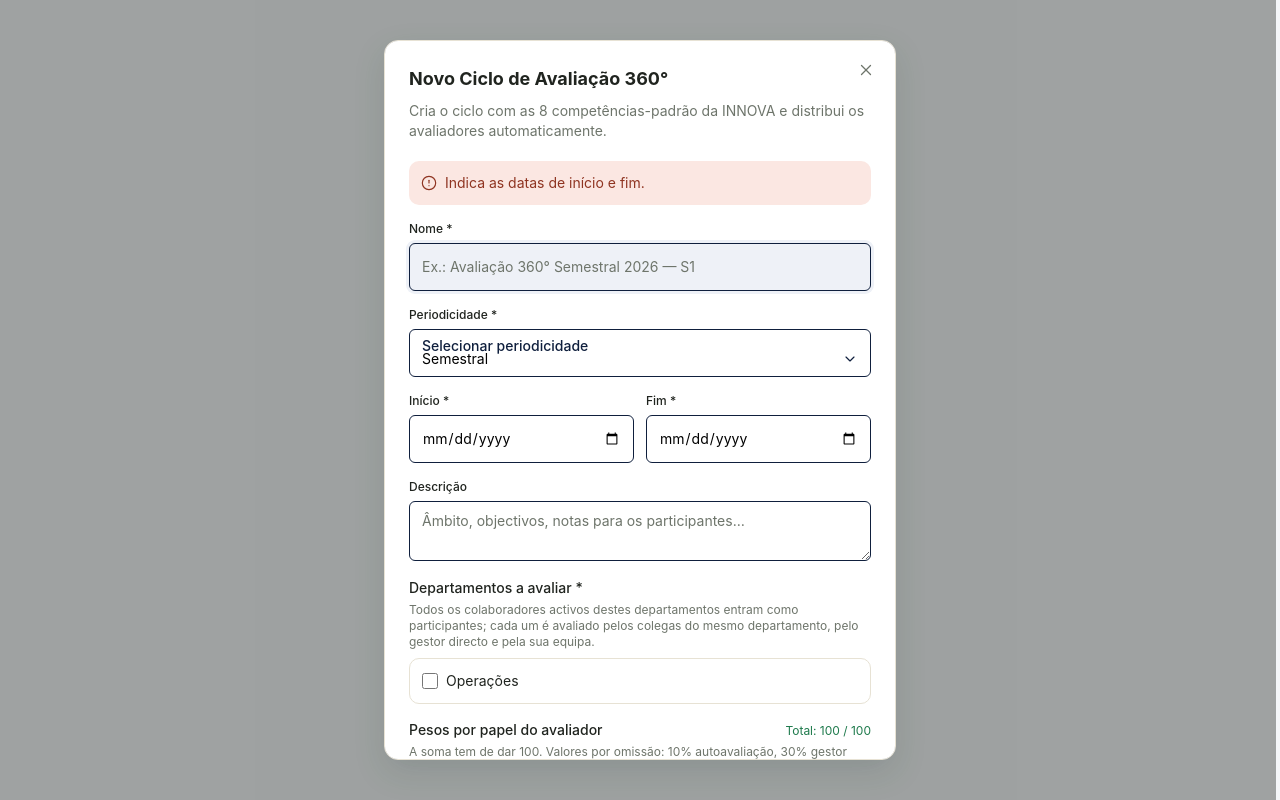
Test case: CreateCycleModal (evaluation360) › não submete quando os pesos não somam 100
Type "Ciclo 2026 S1" into the field labelled "Nome *" at (640, 267), box [409,243,871,291]
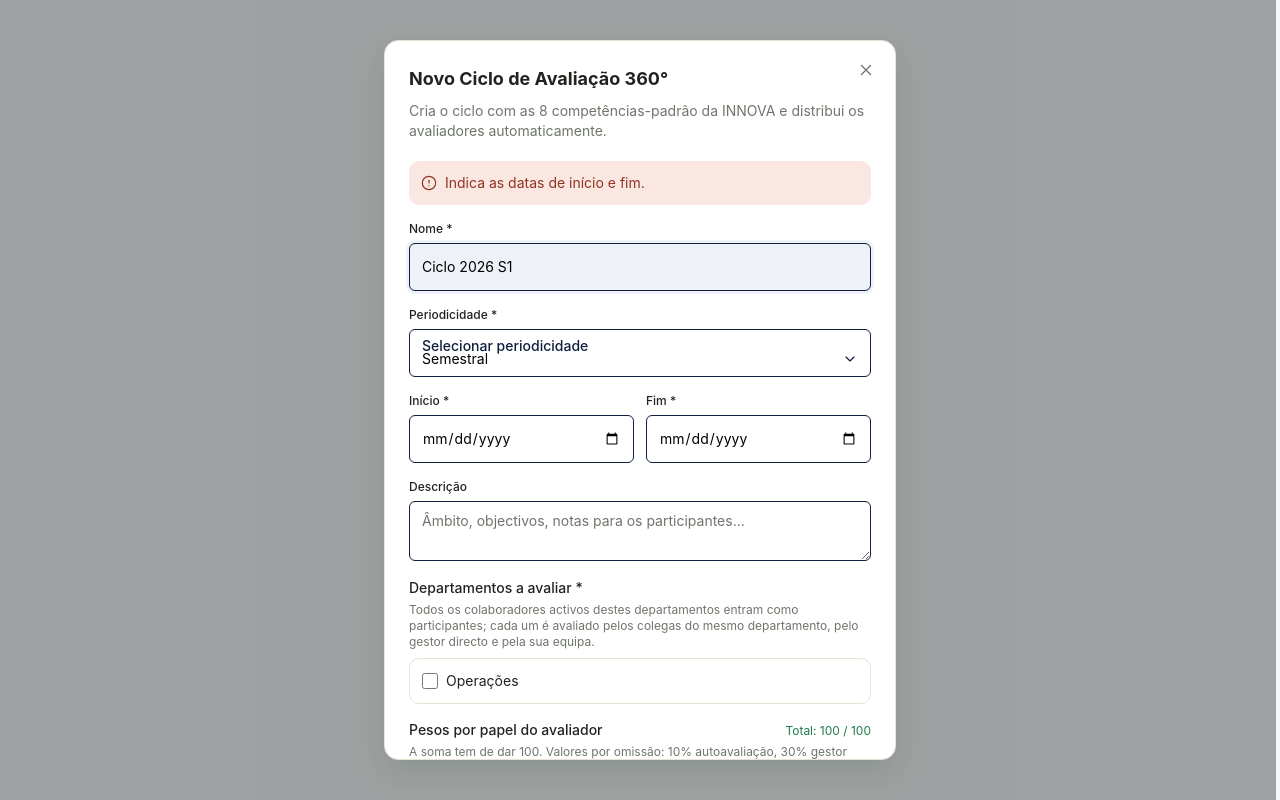
Type "2026-01-01" into the date field labelled "Início *" at (522, 439), box [409,415,634,463]
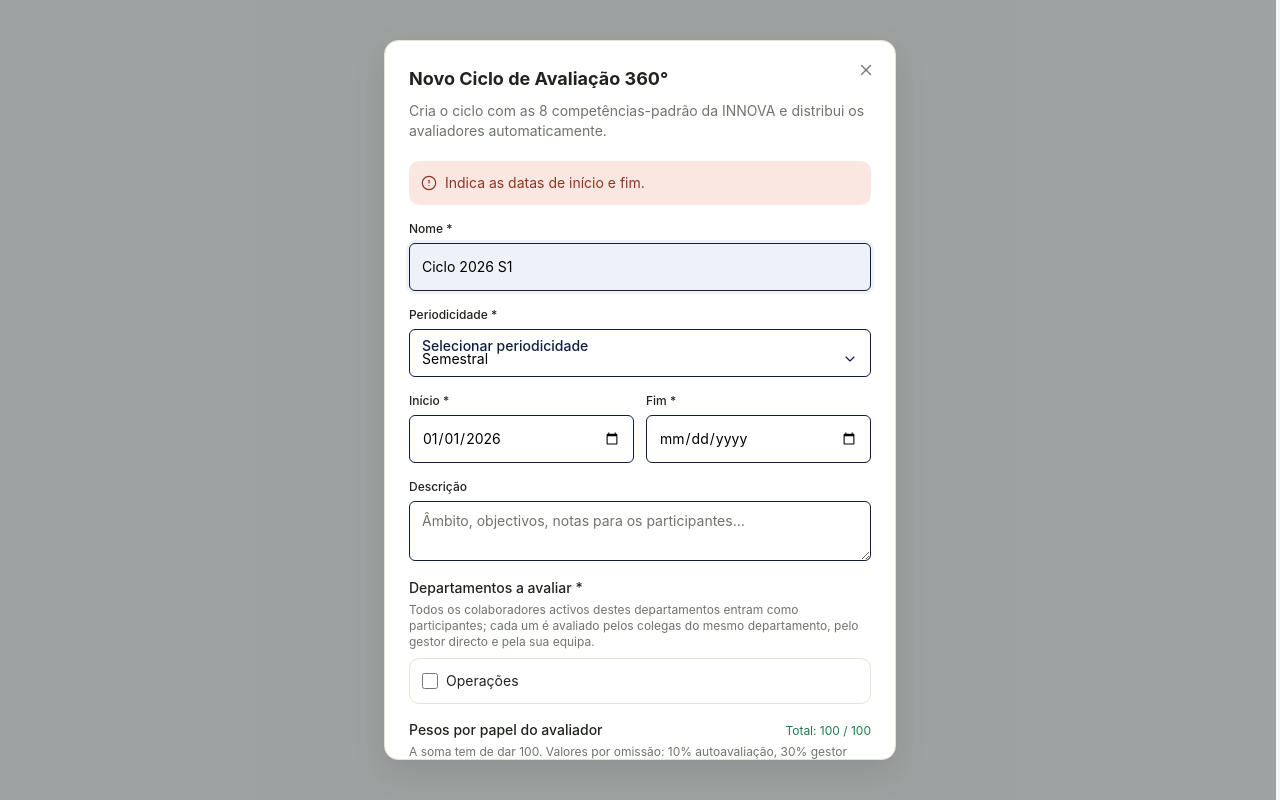
Type "2026-06-30" into the date field labelled "Fim *" at (758, 439), box [646,415,871,463]
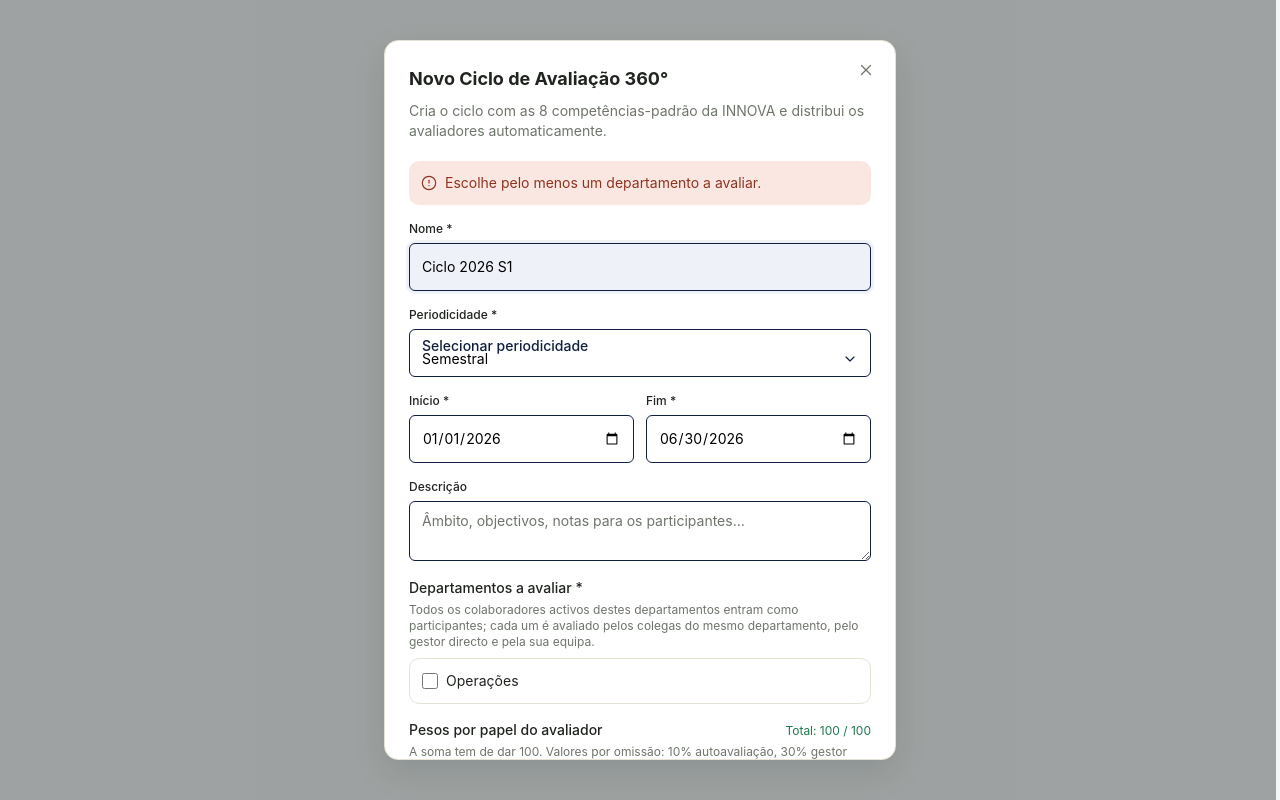
Click the checkbox labelled "Operações" at (430, 681), box [422,673,438,689]
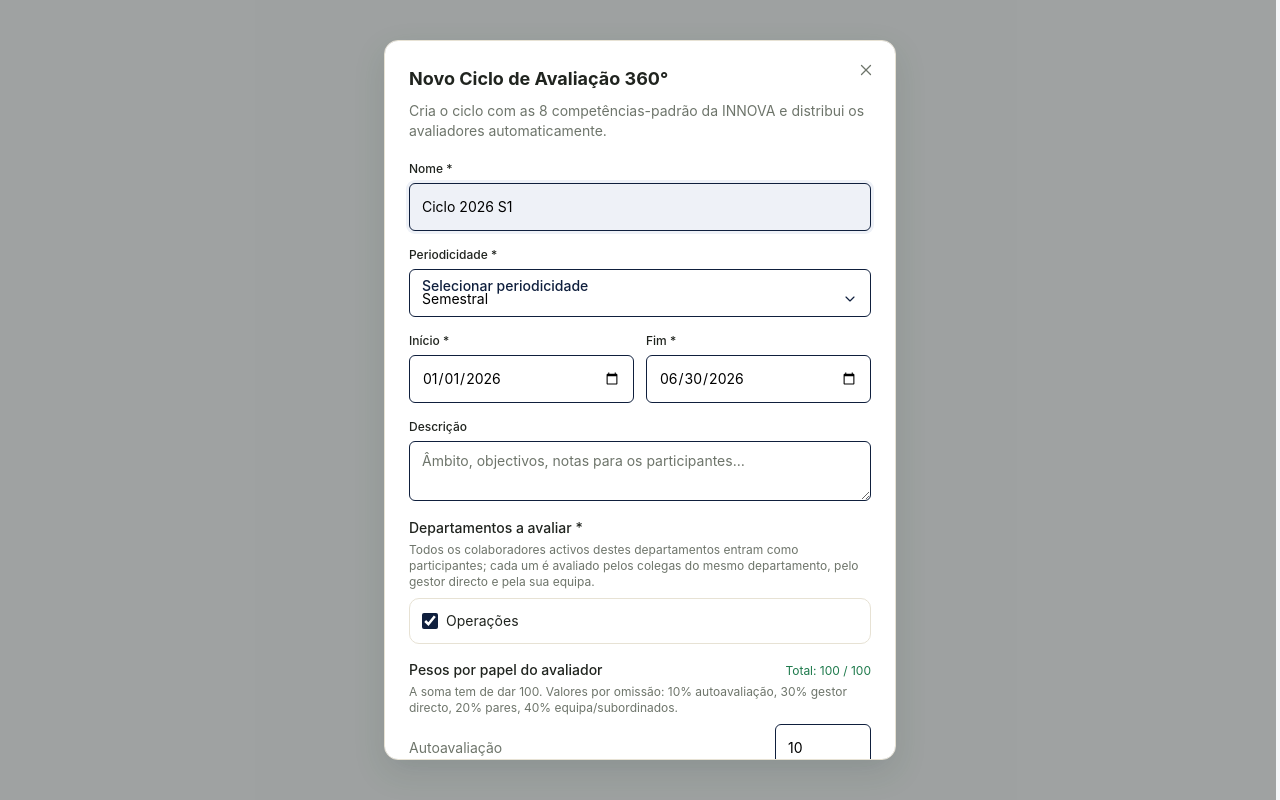
Replace the text in the number field labelled "Autoavaliação" with "50" at (823, 748), box [775,724,871,772]
(page scrolled)
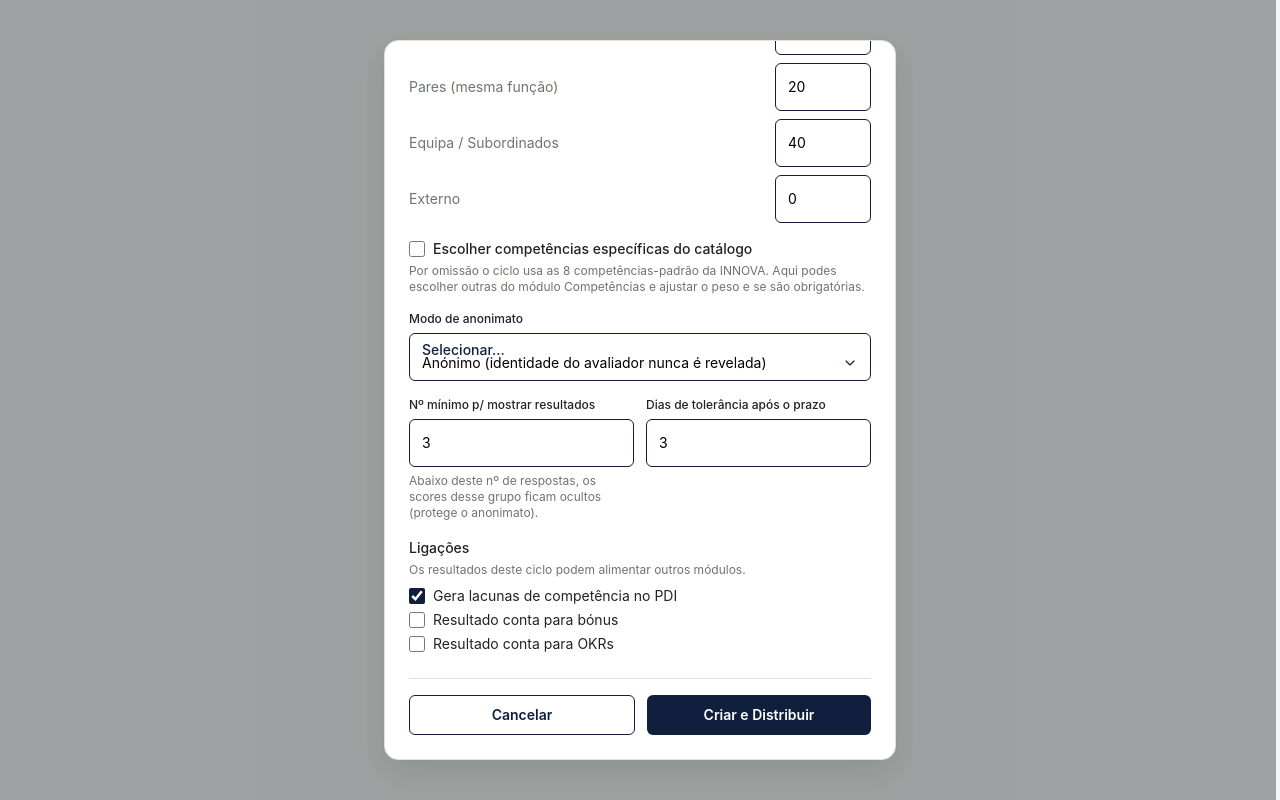
Click the button "Criar e Distribuir" at (759, 715), box [647,695,871,735]
(page scrolled)
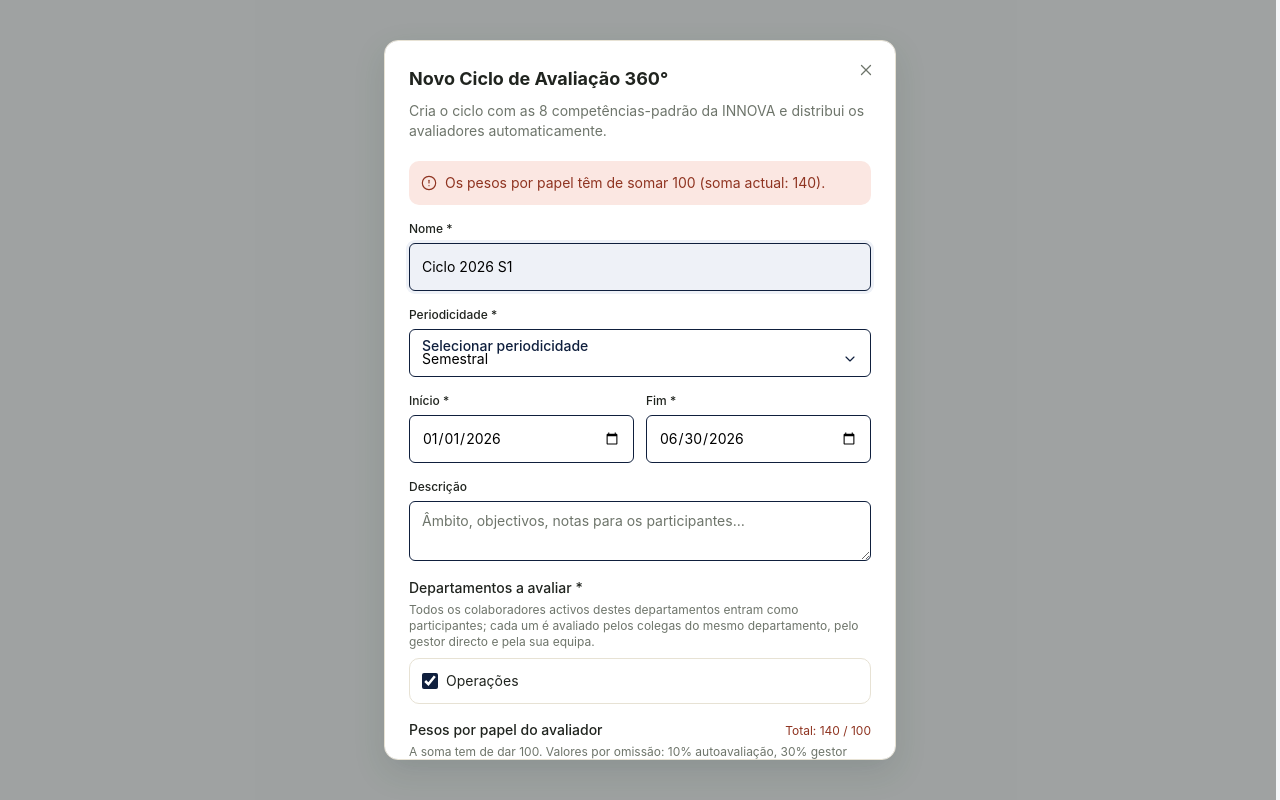
Expected: the text "Os pesos por papel têm de somar 100 (soma actual: 140)." is shown, [409,161,871,205]
